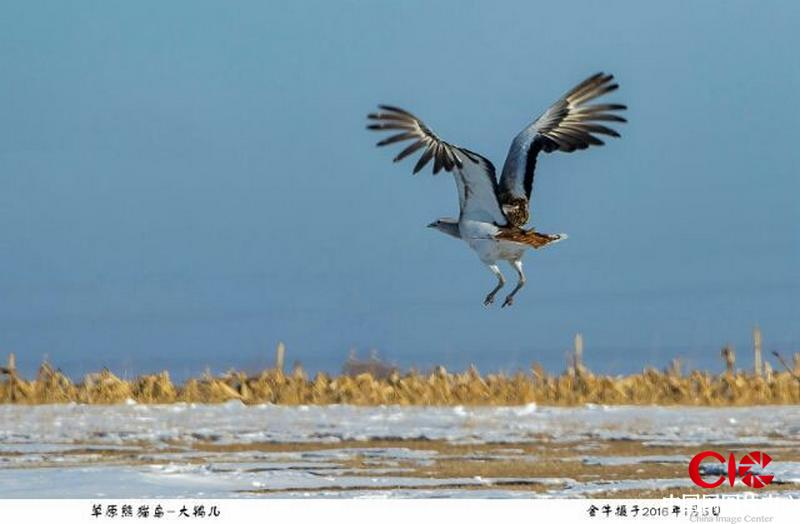bird: (361, 71, 632, 309)
